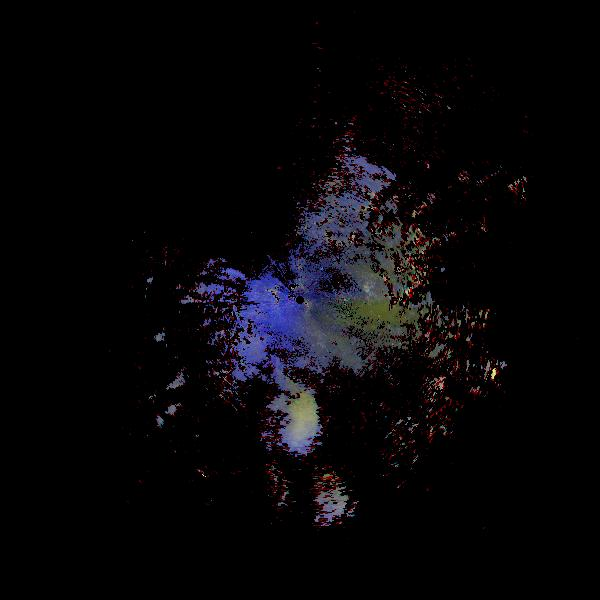roost: (283, 464, 352, 533), (267, 394, 324, 451)
